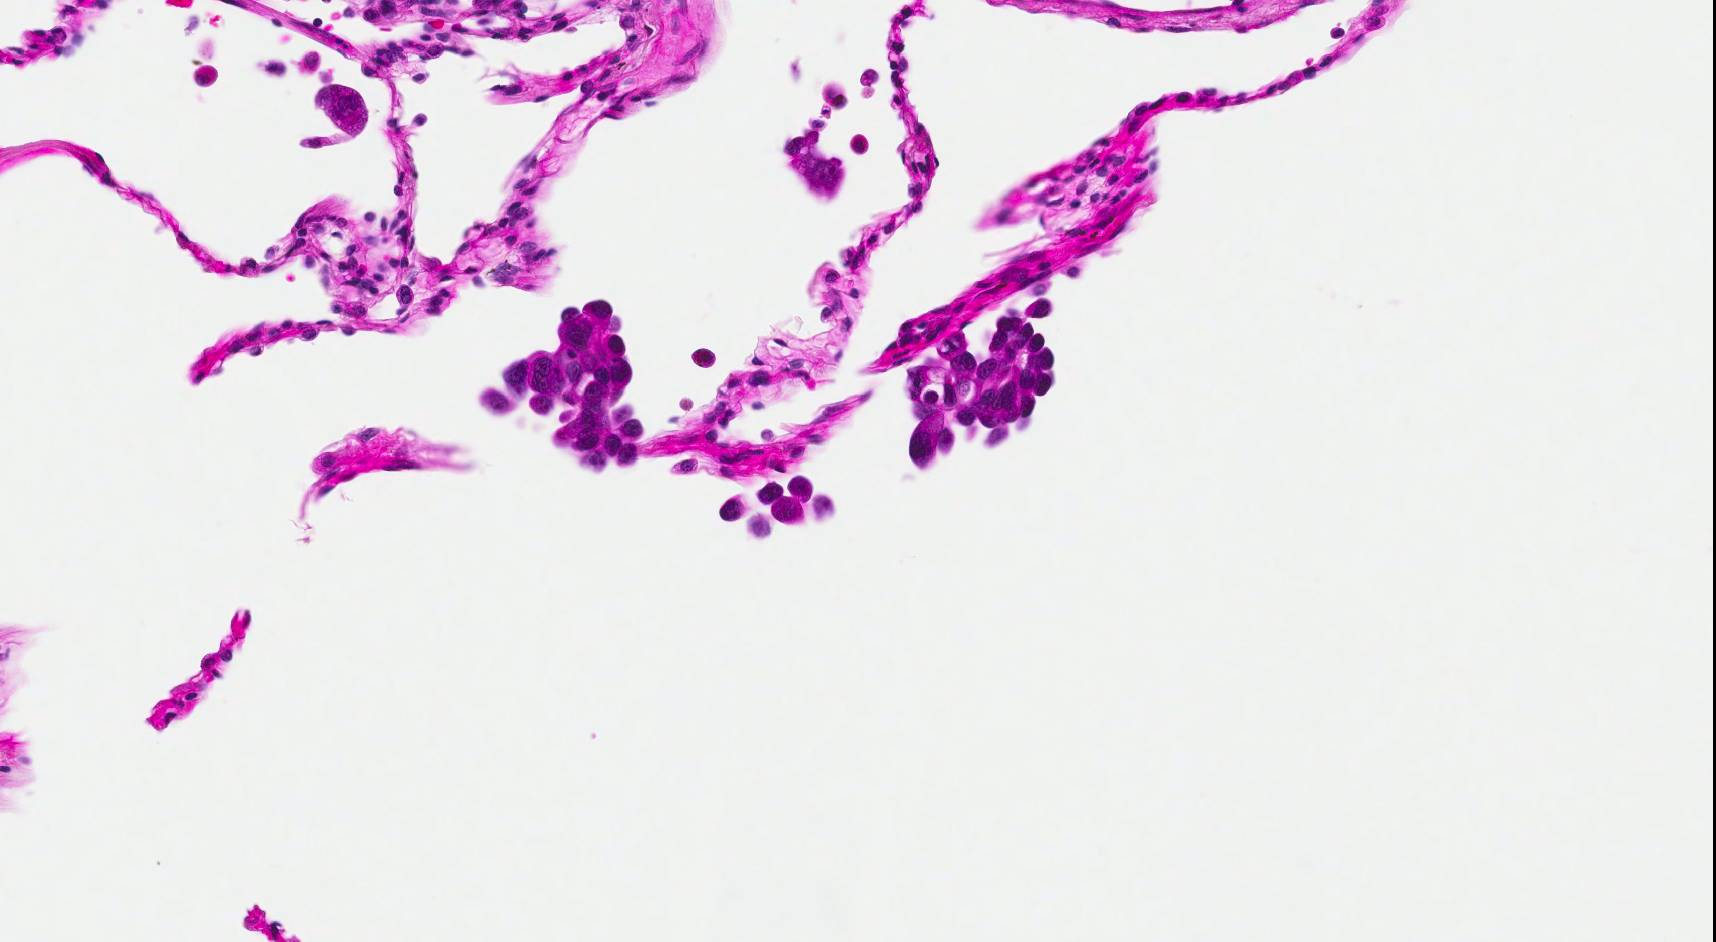stas: (472, 296, 645, 472), (901, 309, 1060, 470), (717, 476, 841, 538)
